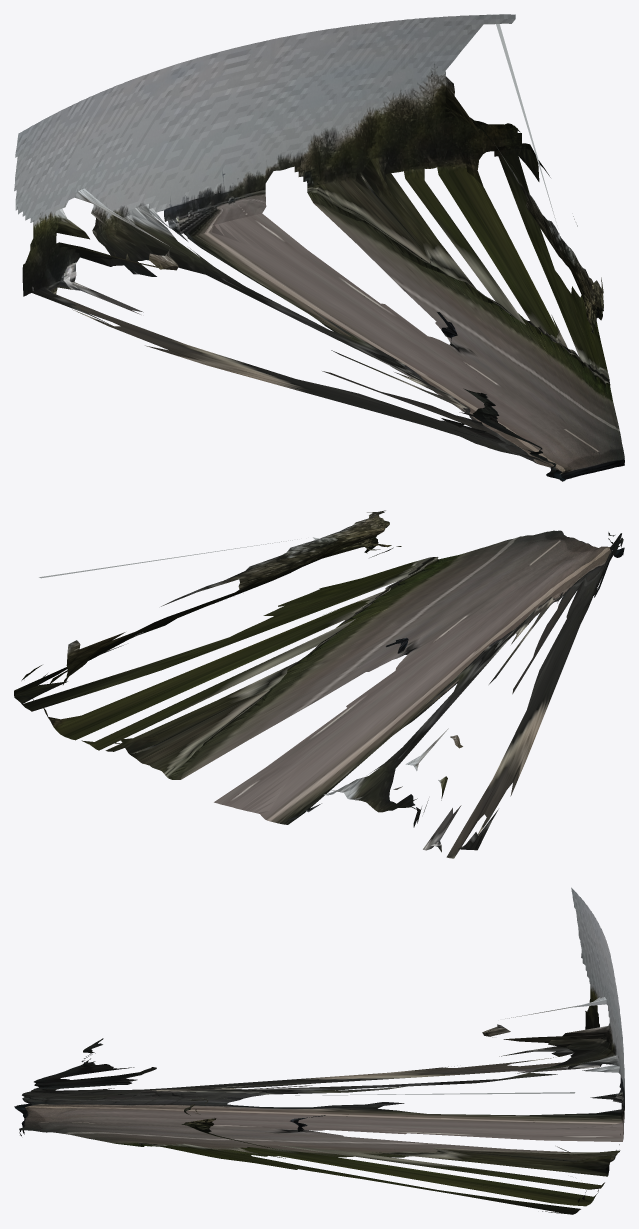
3 views of the same model, one above another, from view 1: azimuth 30°, elevation 25°; view 2: azimuth 150°, elevation 25°; view 3: azimuth 270°, elevation 25° (orthographic). The views are drawn at different scales.
Parts seen in each view (by area): view 1: defaultobject; view 2: defaultobject; view 3: defaultobject.
Boxes of the visible parts, x1,y1,x2,y2 form: defaultobject: (14,14,624,481); defaultobject: (14,510,624,858); defaultobject: (14,887,624,1214).
Size of the model in its own units: 36.45 by 13.17 by 44.77.
Materials: 1 (1 with a texture image).
